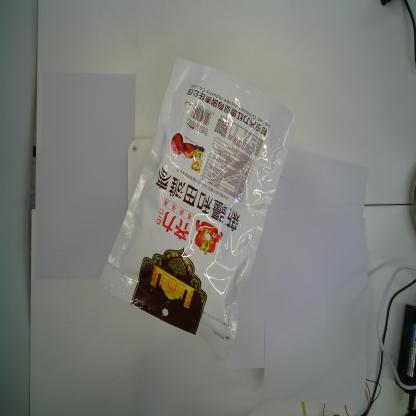Dried Food: (95, 54, 300, 358)
